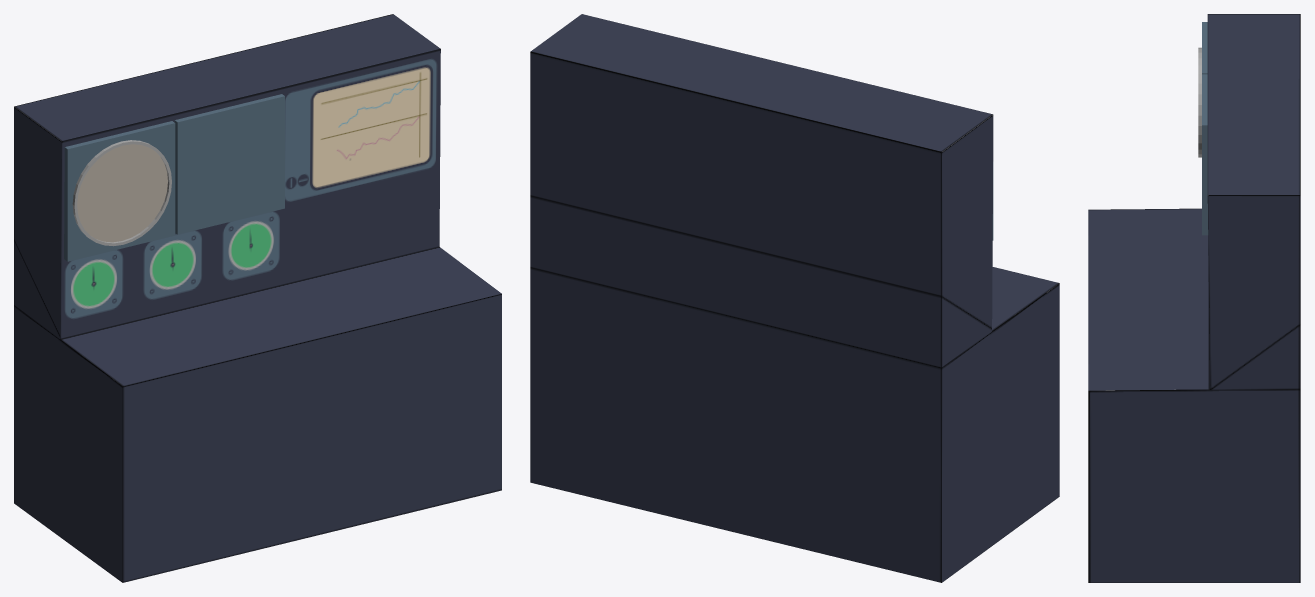
Rendered from console.glb.
3 renders of one model, left to right at view 1: azimuth 30°, elevation 25°; view 2: azimuth 150°, elevation 25°; view 3: azimuth 270°, elevation 25°, orthographic. The views are drawn at different scales.
Parts seen in each view (by area): view 1: Cube, Cube.002, Cylinder.001, Cube.001, Cylinder; view 2: Cube; view 3: Cube, Cube.002, Cylinder, Cube.001.
Boxes of the visible parts, x1,y1,x2,y2 form: Cube: [14, 14, 501, 582]; Cube.002: [174, 94, 284, 234]; Cylinder.001: [77, 144, 167, 242]; Cube.001: [64, 121, 175, 261]; Cylinder: [72, 140, 171, 246]; Cube: [530, 14, 1059, 582]; Cube: [1088, 14, 1300, 582]; Cube.002: [1202, 74, 1208, 235]; Cylinder: [1198, 47, 1201, 157]; Cube.001: [1202, 22, 1207, 74].
Bounding box in the file's own units: 9.85 × 9.85 × 4.89.
Materials: 4 (1 with a texture image).
